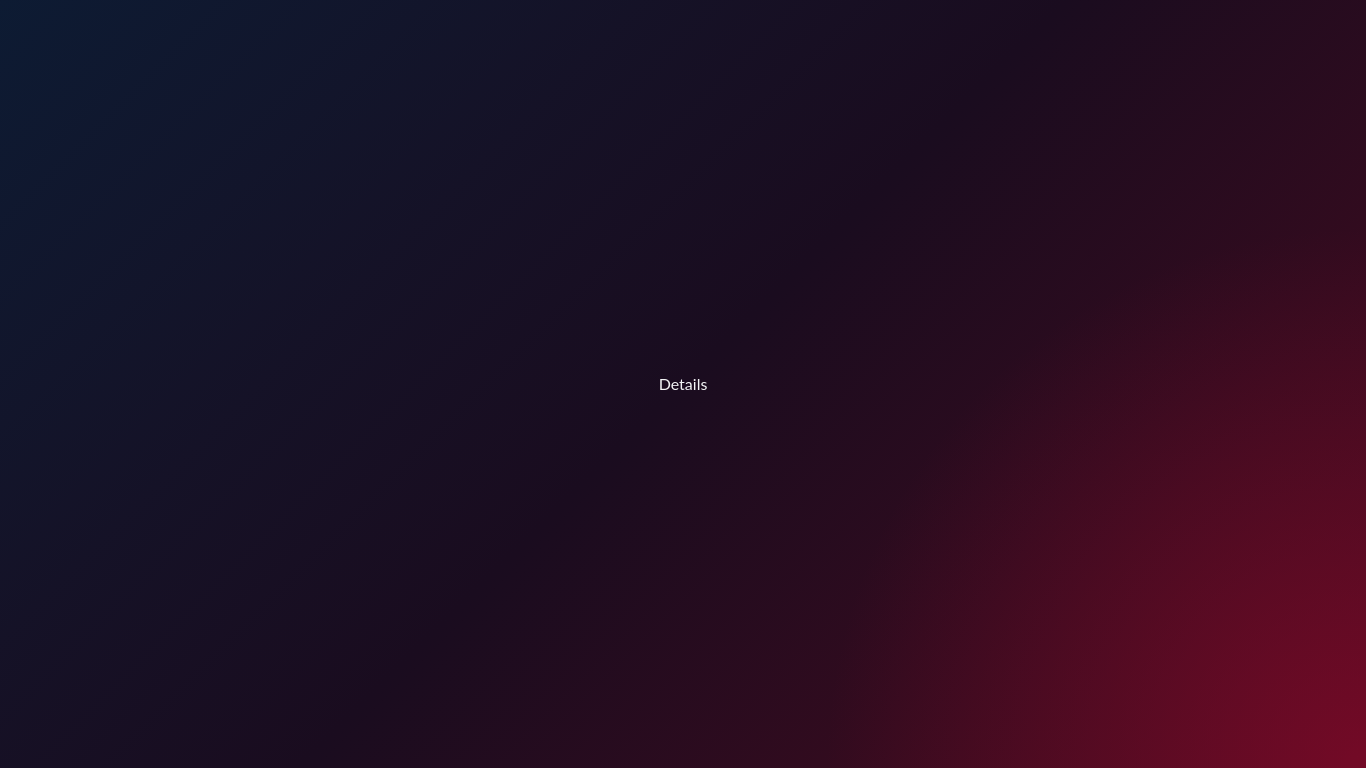
overlays › Drawer is a named dialog that closes with Escape
Click the button "Details" at coordinates (683, 384), box [659, 371, 707, 397]
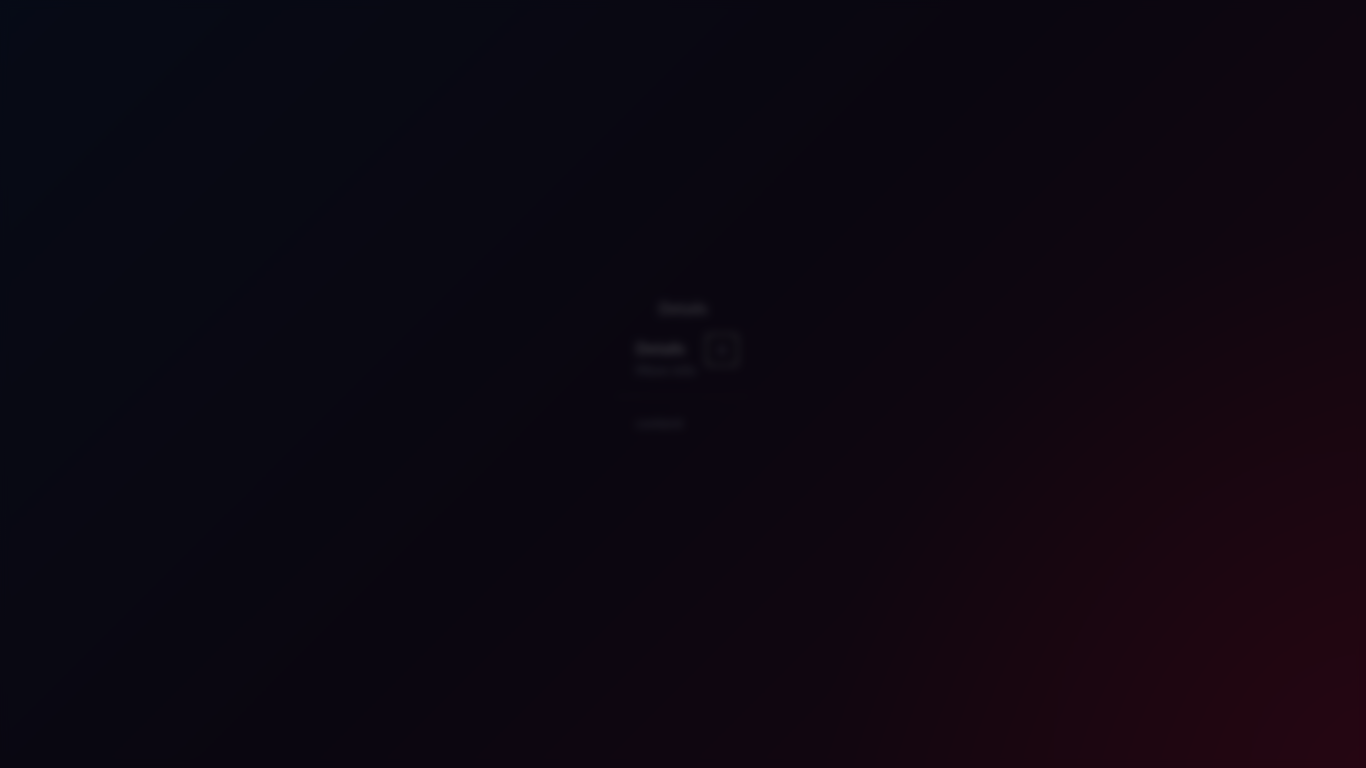
Press Escape
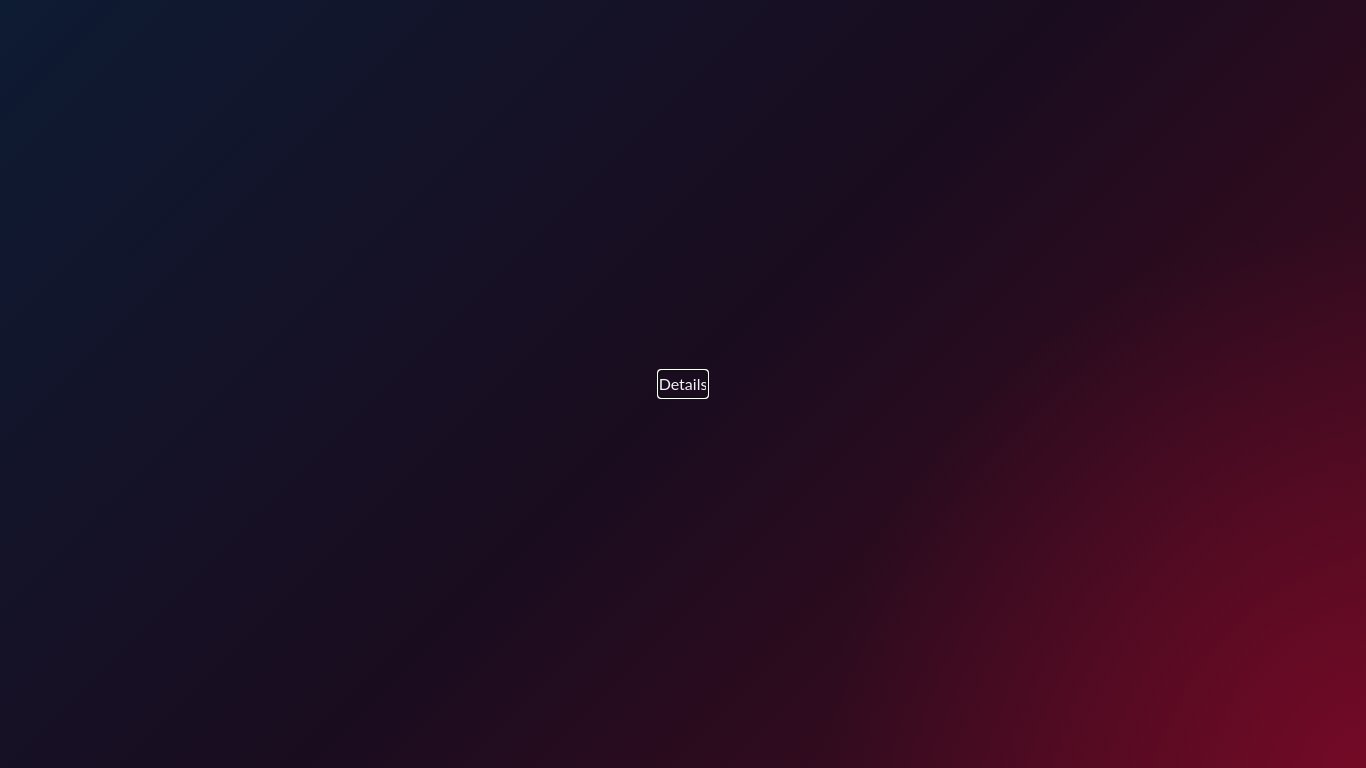
Check: the dialog is gone
